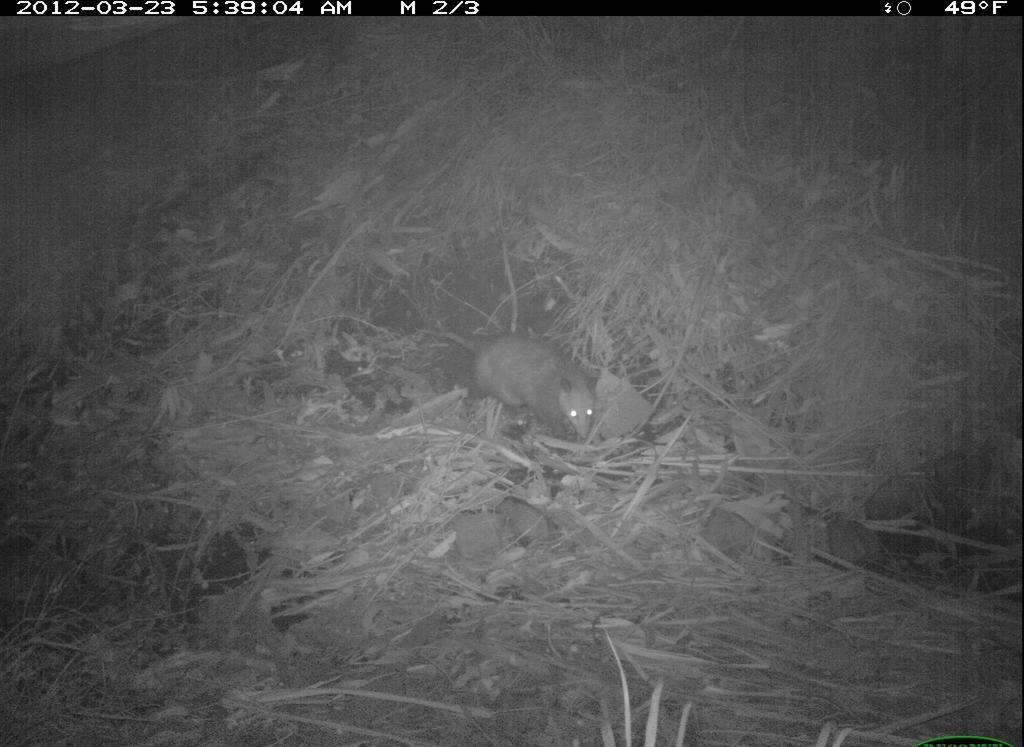opossum: (396, 299, 616, 459)
